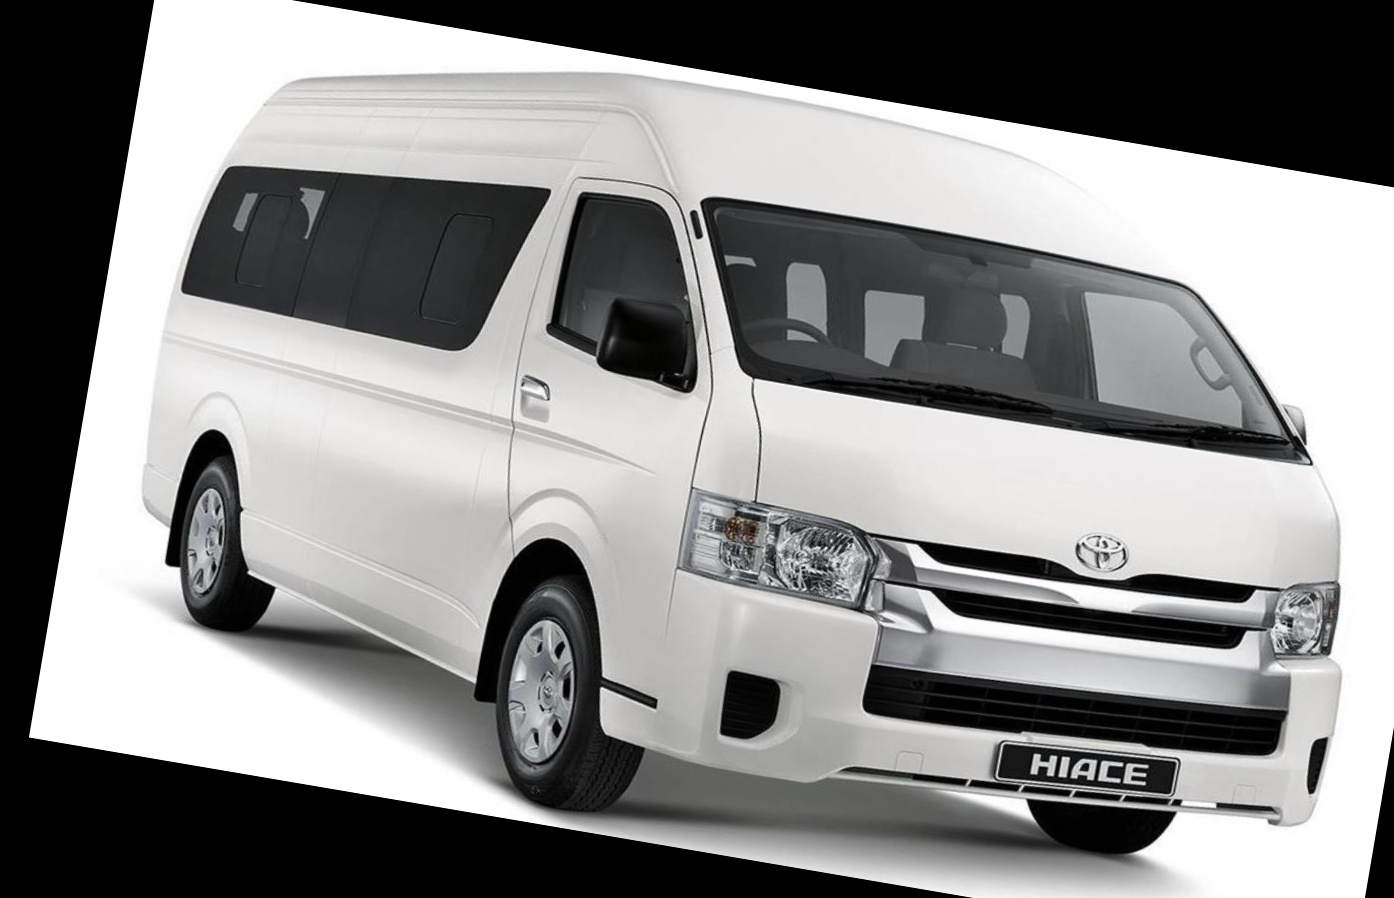van: (105, 6, 1394, 898)
